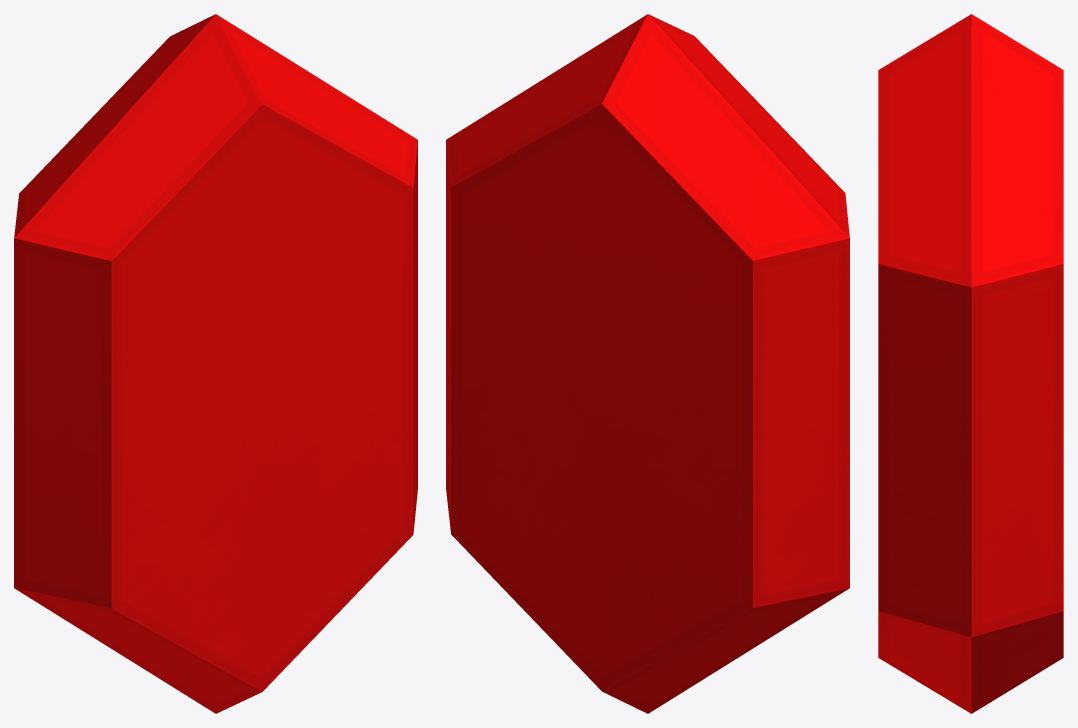
Rendered from crystal3-3tex.fbx.
The picture shows the model from 3 angles, left to right: view 1: azimuth 30°, elevation 25°; view 2: azimuth 150°, elevation 25°; view 3: azimuth 270°, elevation 25°; orthographic projection.
Parts seen in each view (by area): view 1: crystal3-3tex; view 2: crystal3-3tex; view 3: crystal3-3tex.
Part boxes in pixels (x1=…): crystal3-3tex: x1=14, y1=14, x2=417, y2=713; crystal3-3tex: x1=446, y1=14, x2=849, y2=713; crystal3-3tex: x1=878, y1=14, x2=1063, y2=713.
Size of the model in its own units: 0.297 by 0.4921 by 0.1179.
